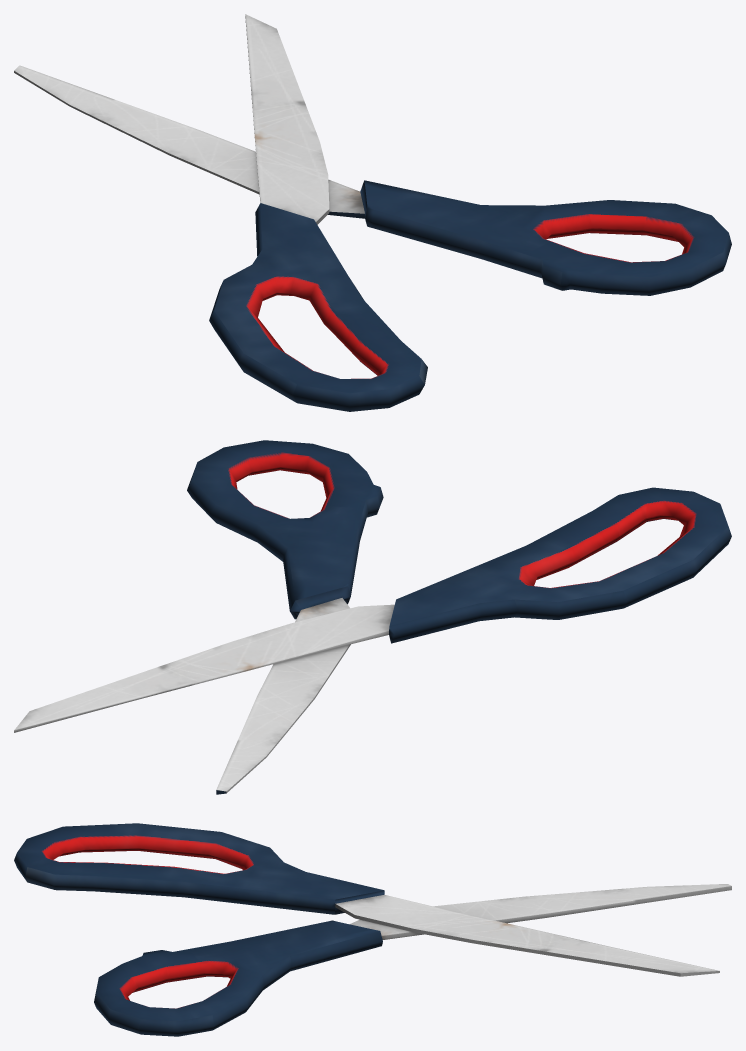
File: scissors.fbx
The picture shows the model from 3 angles, top to bottom: view 1: azimuth 30°, elevation 25°; view 2: azimuth 150°, elevation 25°; view 3: azimuth 270°, elevation 25°; orthographic projection. The views are drawn at different scales.
Visible parts, largest first — view 1: scissors; view 2: scissors; view 3: scissors.
Boxes of the visible parts, left/top/right/bottom form: scissors: left=14, top=14, right=731, bottom=411; scissors: left=14, top=440, right=731, bottom=794; scissors: left=14, top=823, right=731, bottom=1036.
Size of the model in its own units: 0.2151 by 0.00772 by 0.3252.
